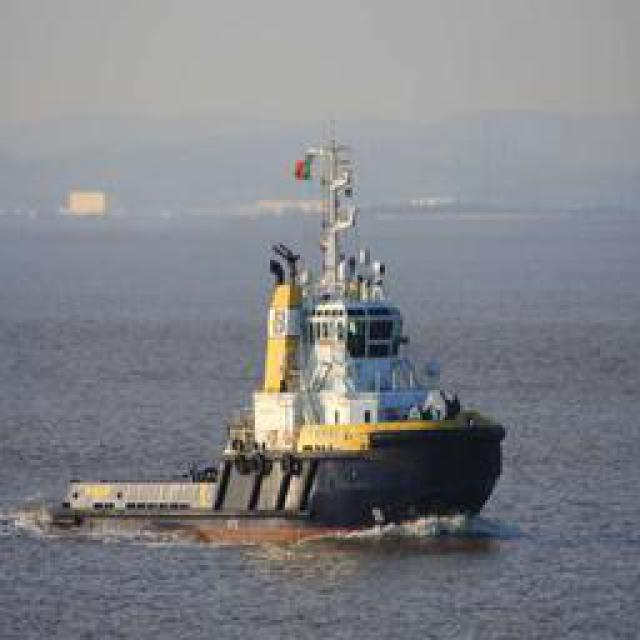Ship: (132, 121, 515, 529)
